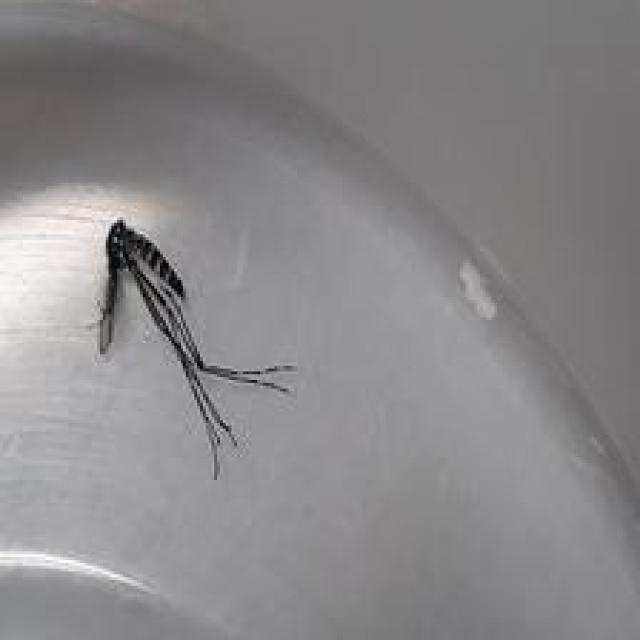Aedes albopictus: (92, 217, 297, 480)
